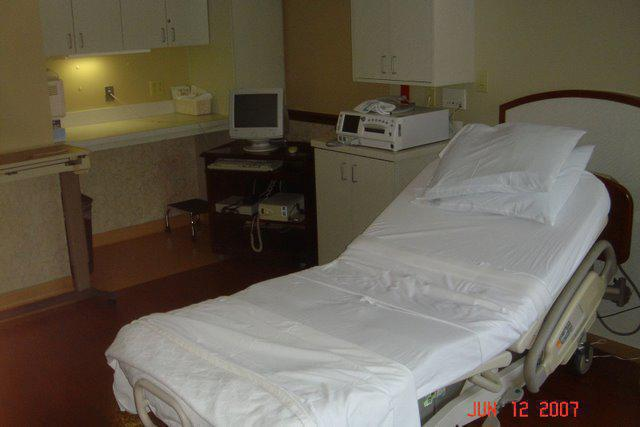Cama: (106, 113, 622, 420)
